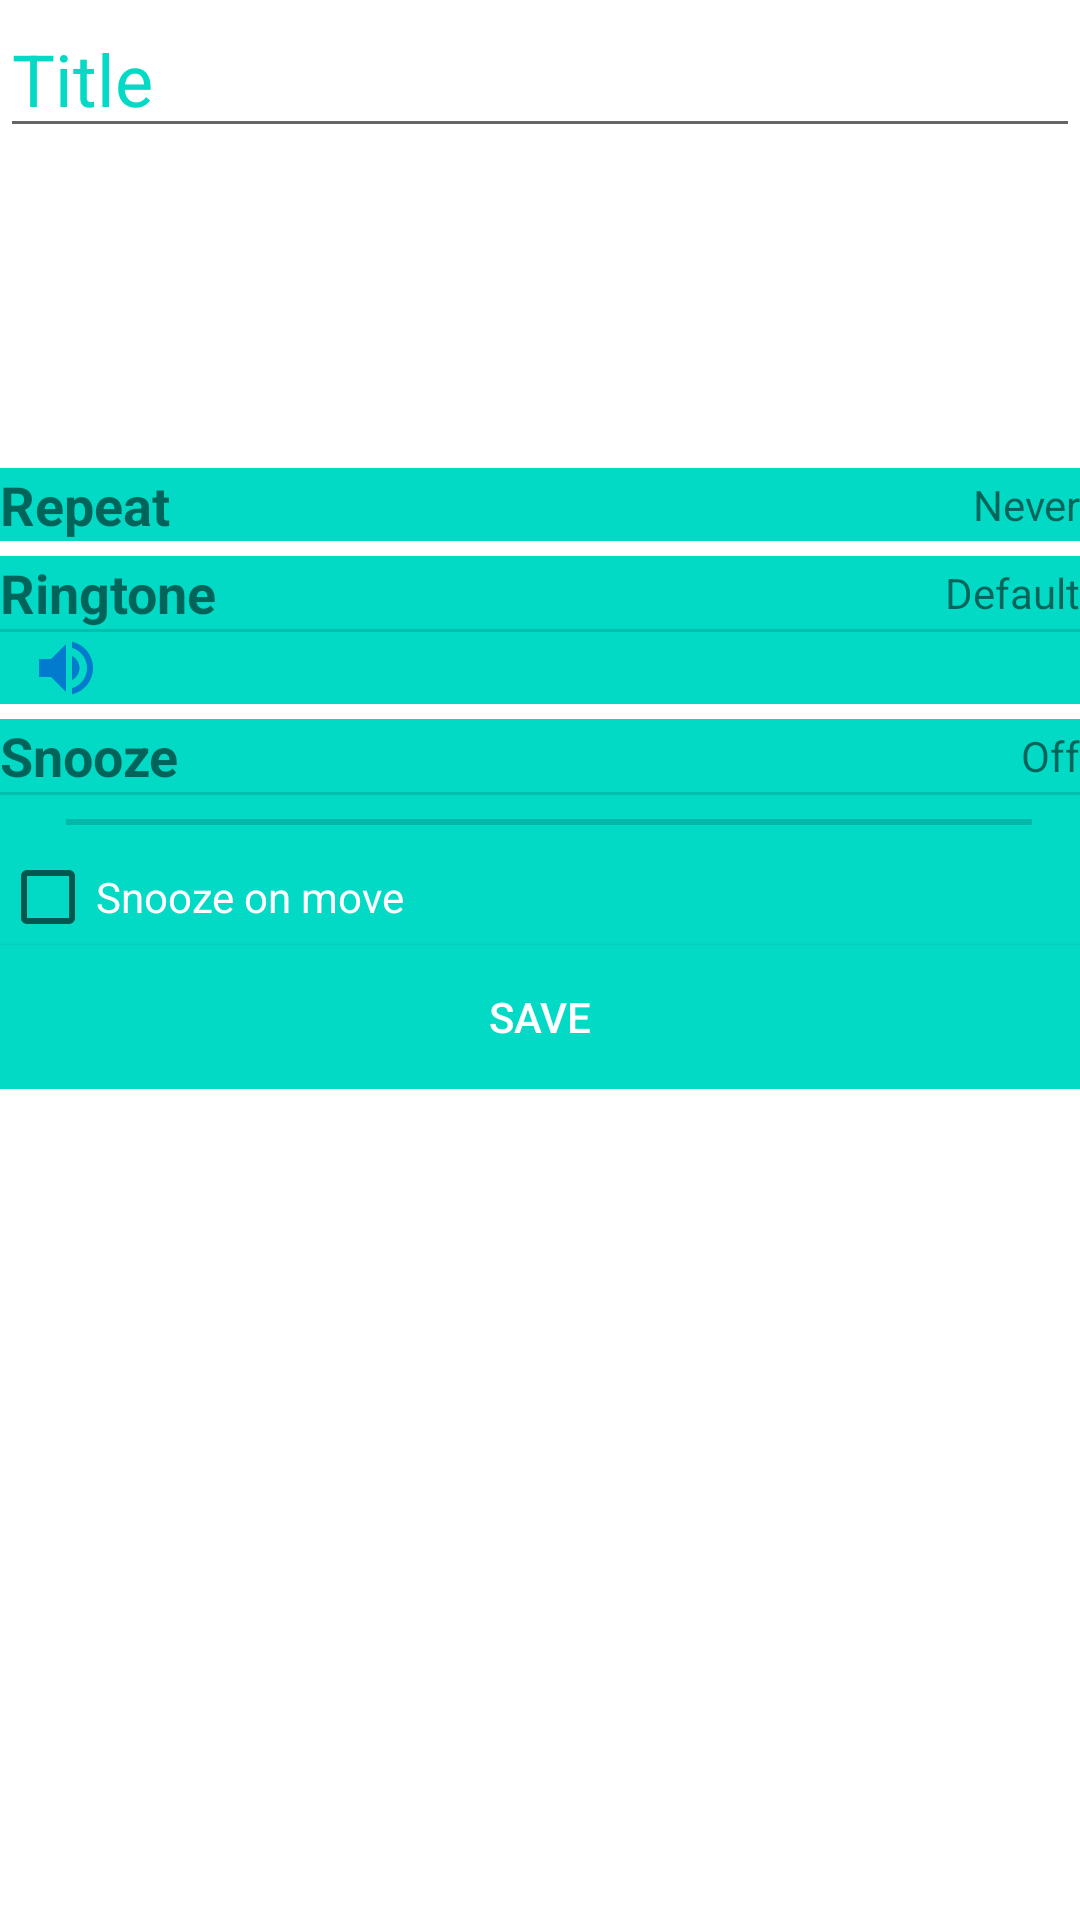

Screen size 1080 × 1920. Icon name, then its center in pixels as (x=x, y=y):
volume: (x=66, y=668)
